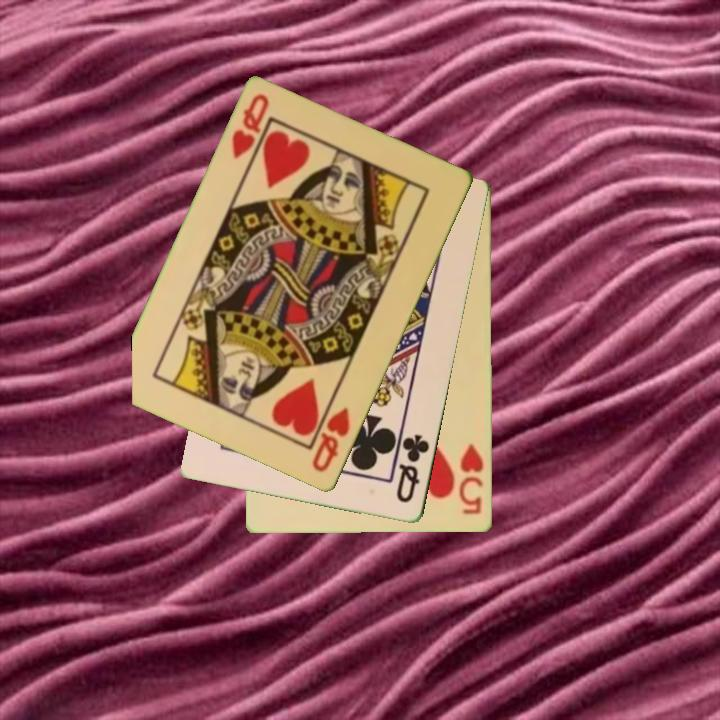5h: (456, 441, 487, 518)
Qc: (393, 431, 433, 507)
Qh: (308, 404, 353, 476), (228, 90, 273, 162)
